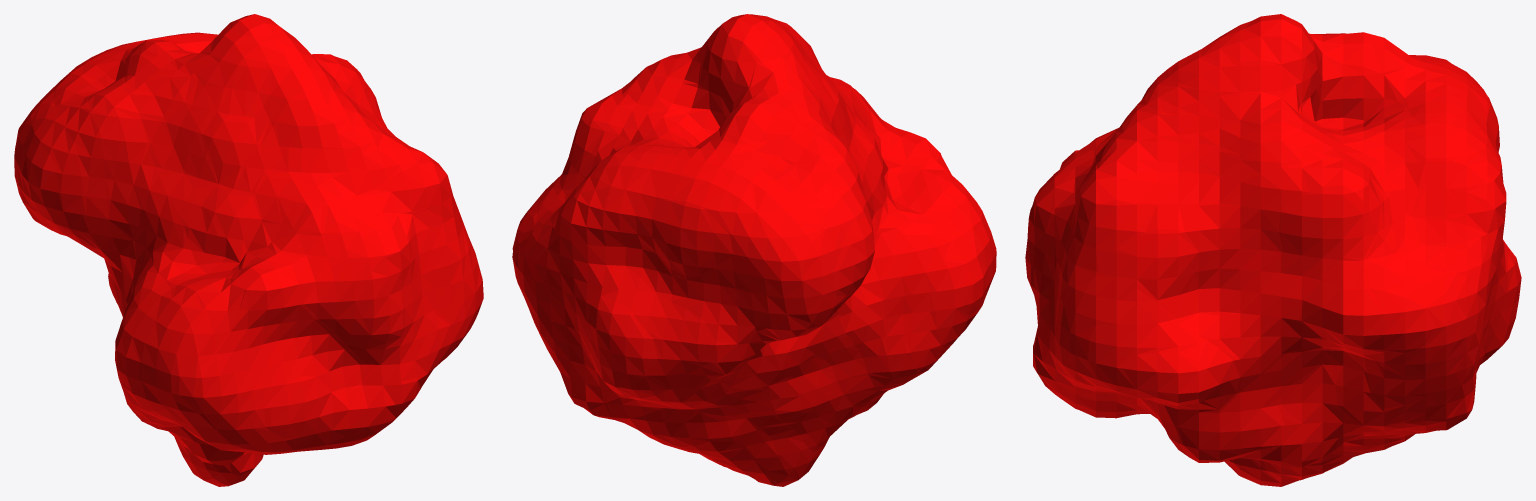
Rendered from yfbR_coarse.dae.
3 views of the same model, side by side, from view 1: azimuth 30°, elevation 25°; view 2: azimuth 150°, elevation 25°; view 3: azimuth 270°, elevation 25° (orthographic). The views are drawn at different scales.
Visible parts, largest first — view 1: yfbR; view 2: yfbR; view 3: yfbR.
Boxes of the visible parts, left/top/right/bottom form: yfbR: left=14, top=14, right=483, bottom=486; yfbR: left=512, top=14, right=996, bottom=486; yfbR: left=1025, top=14, right=1521, bottom=486.
Size of the model in its own units: 50.08 by 61.77 by 57.3.
